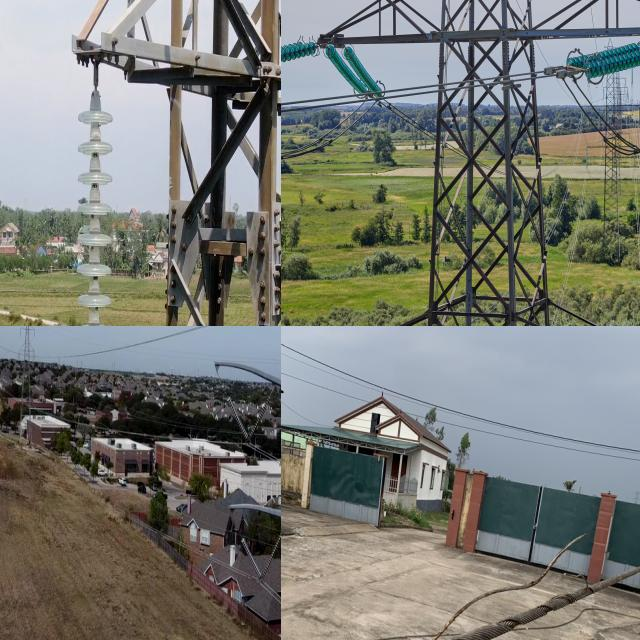杆塔: (317, 0, 640, 326), (70, 0, 281, 326), (14, 326, 40, 424)
正常绝缘子: (74, 65, 113, 326), (564, 37, 640, 77), (238, 388, 279, 461), (323, 44, 370, 100), (230, 522, 268, 589), (342, 44, 386, 99), (221, 386, 254, 457), (253, 524, 281, 595), (591, 46, 640, 79), (281, 36, 318, 67)
电缆破损: (336, 522, 607, 640)
